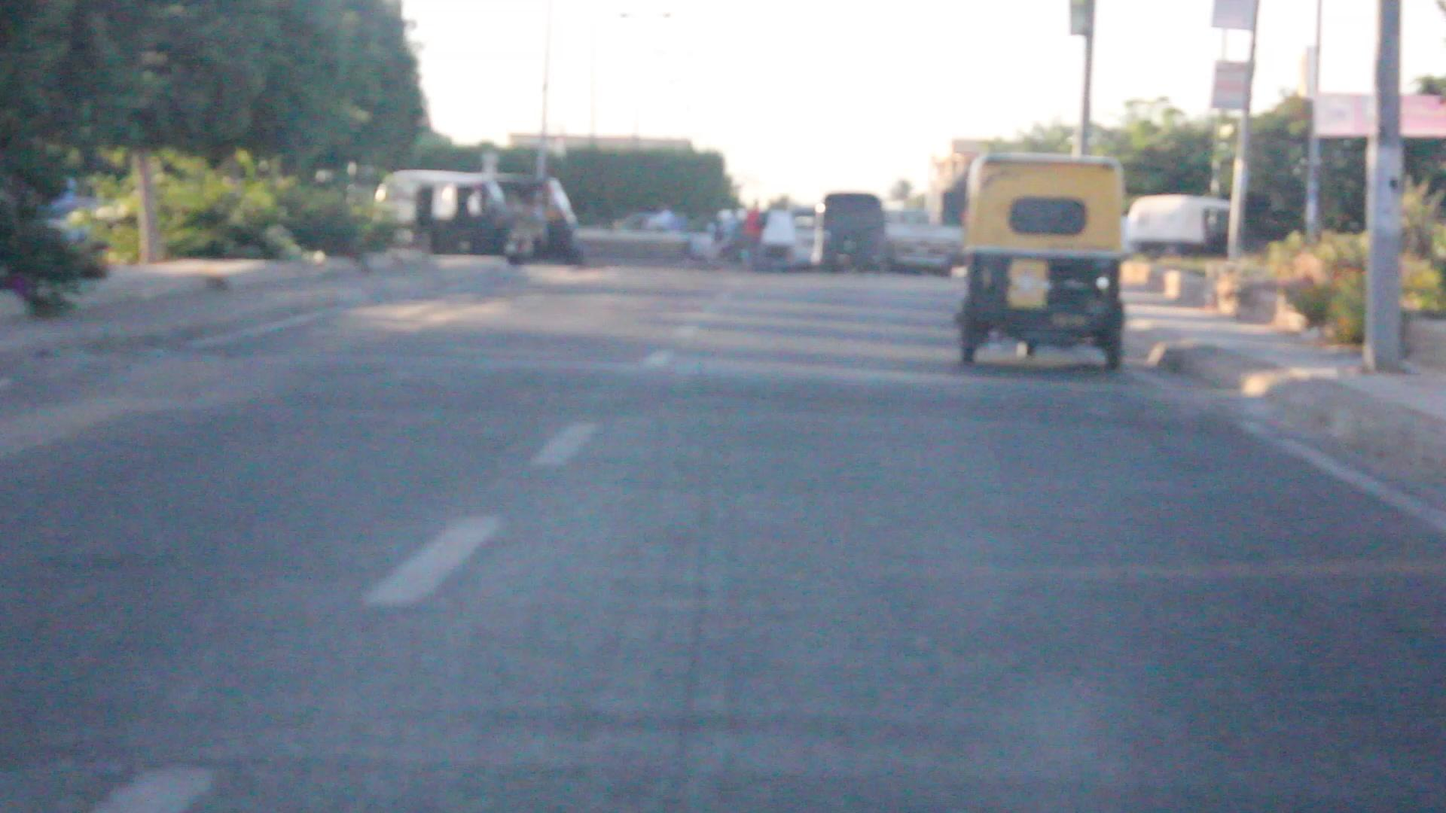Bump: (256, 359, 1211, 433)
